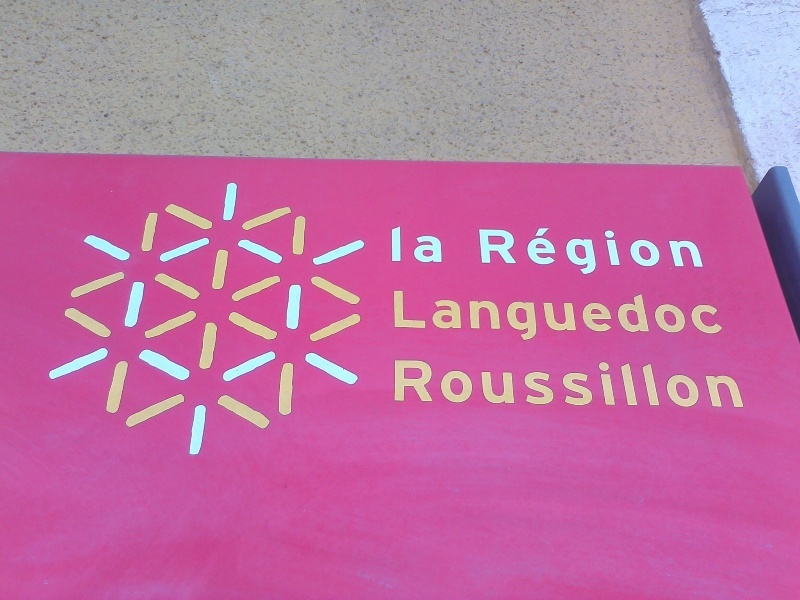text: (401, 288, 416, 344), (417, 288, 432, 344), (433, 288, 448, 344), (449, 288, 464, 344), (465, 288, 480, 344), (481, 288, 496, 344), (497, 288, 512, 344), (513, 288, 528, 344), (529, 288, 544, 344), (545, 288, 560, 344), (561, 288, 576, 344), (577, 288, 592, 344), (593, 288, 608, 344), (609, 288, 624, 344), (625, 288, 640, 344), (641, 288, 656, 344), (657, 288, 672, 344), (673, 288, 688, 344), (689, 288, 704, 344), (705, 288, 720, 344), (481, 226, 496, 279), (497, 226, 512, 279), (513, 226, 528, 279), (529, 226, 544, 279), (545, 226, 560, 279), (561, 226, 576, 279), (577, 226, 592, 279), (593, 226, 608, 279), (609, 226, 624, 279), (625, 226, 640, 279), (641, 226, 656, 279), (657, 226, 672, 279), (673, 226, 688, 279), (689, 226, 704, 279), (401, 356, 416, 409), (417, 356, 432, 409), (433, 356, 448, 409), (449, 356, 464, 409), (465, 356, 480, 409), (481, 356, 496, 409), (497, 356, 512, 409), (513, 356, 528, 409), (529, 356, 544, 409), (545, 356, 560, 409), (561, 356, 576, 409), (577, 356, 592, 409), (593, 356, 608, 409), (609, 356, 624, 409), (625, 356, 640, 409), (641, 356, 656, 409), (657, 356, 672, 409), (673, 356, 688, 409), (689, 356, 704, 409), (705, 356, 720, 409), (721, 356, 736, 409), (401, 226, 416, 265), (417, 226, 432, 265), (737, 356, 747, 409), (392, 288, 400, 344), (721, 288, 729, 344), (393, 356, 400, 409), (391, 226, 400, 265), (433, 226, 442, 265), (705, 226, 708, 279), (478, 226, 480, 279)
